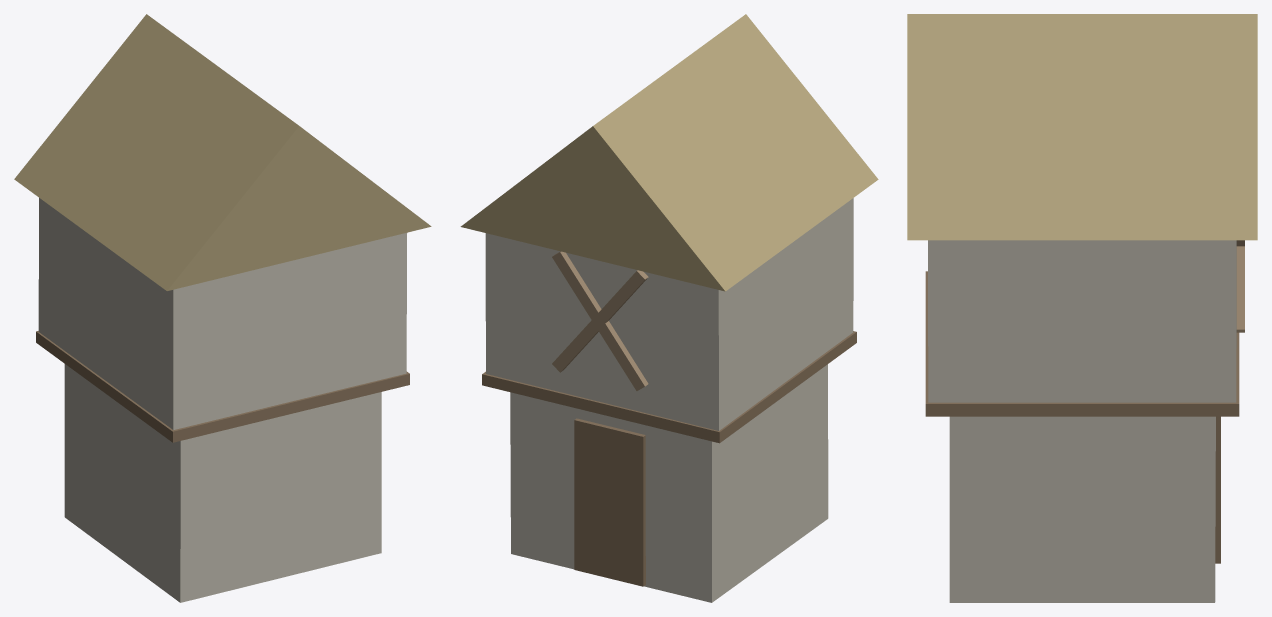
The model's file is generic_house_c.glb.
3 views of the same model, side by side, from view 1: azimuth 30°, elevation 25°; view 2: azimuth 150°, elevation 25°; view 3: azimuth 270°, elevation 25° (orthographic). The views are drawn at different scales.
Parts seen in each view (by area): view 1: generic_house_c; view 2: generic_house_c; view 3: generic_house_c.
Part boxes in pixels (x1=…): generic_house_c: x1=14, y1=14, x2=431, y2=602; generic_house_c: x1=460, y1=14, x2=878, y2=602; generic_house_c: x1=907, y1=14, x2=1257, y2=602.
Size of the model in its own units: 2.5 by 4.2 by 2.5.
